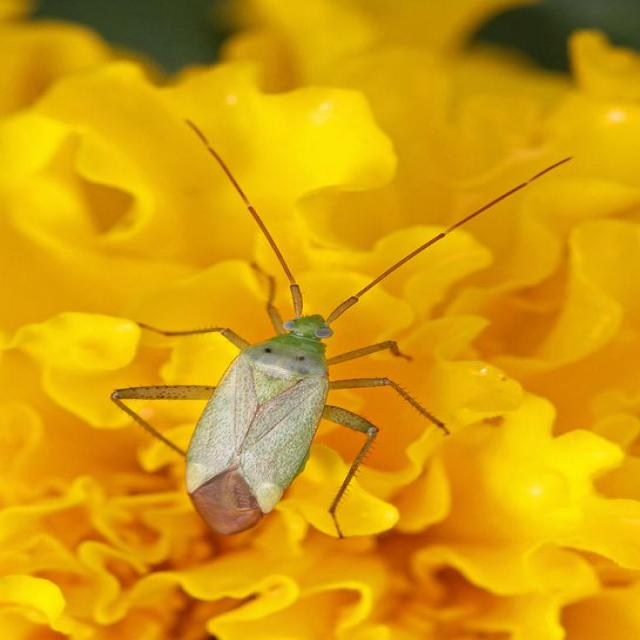Miridae-Adult-: (105, 116, 576, 536)
